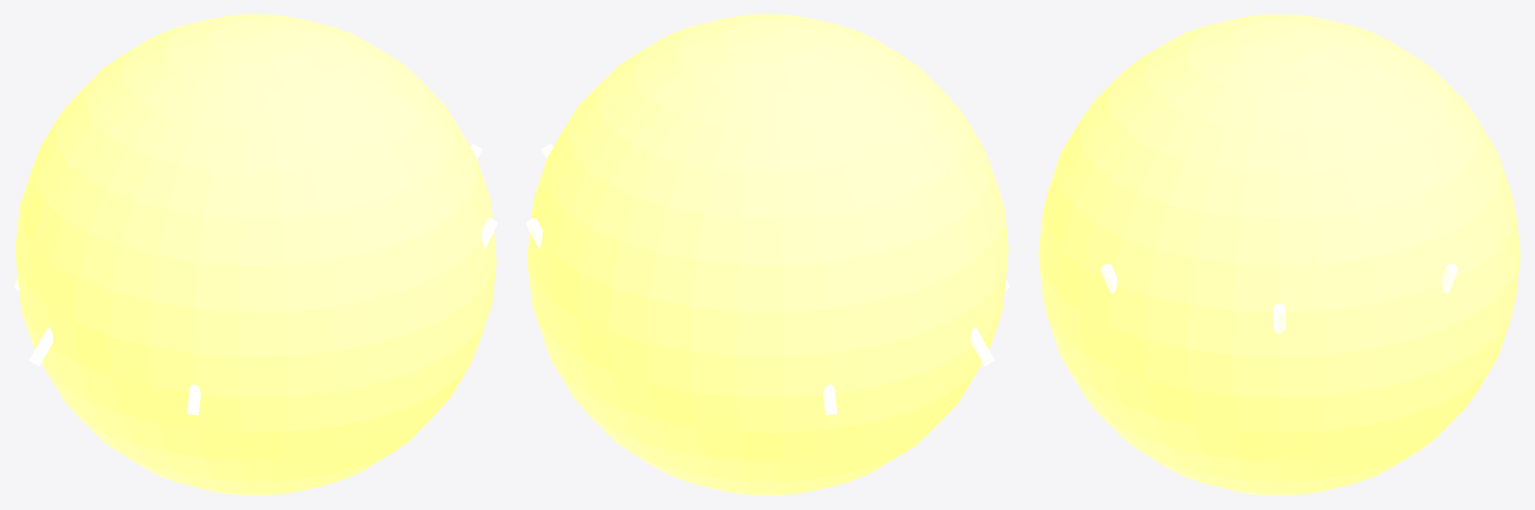
Rendered from lightning_orb.glb.
3 renders of one model, left to right at view 1: azimuth 30°, elevation 25°; view 2: azimuth 150°, elevation 25°; view 3: azimuth 270°, elevation 25°, orthographic.
Visible parts, largest first — view 1: Sphere; view 2: Sphere; view 3: Sphere.
Boxes of the visible parts, <box> form: Sphere: <box>15,14,496,495</box>; Sphere: <box>527,14,1008,495</box>; Sphere: <box>1038,14,1520,495</box>.
Bounding box in the file's own units: 0.6795 × 0.6289 × 0.6289.
